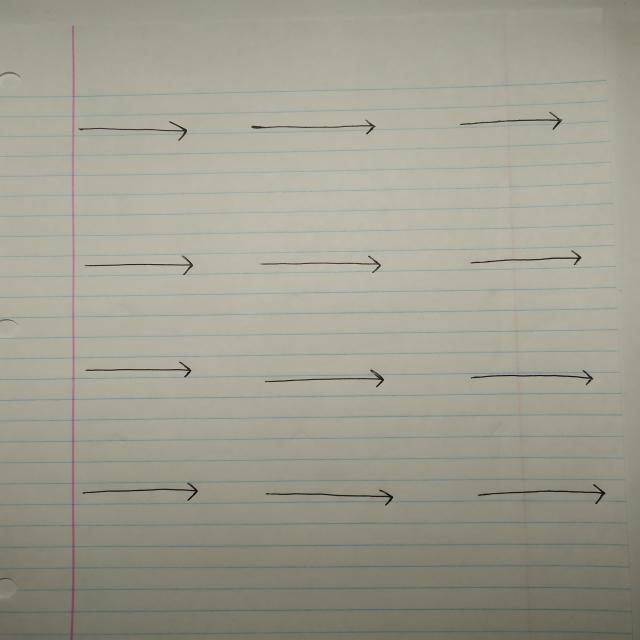arrow_line_right: (255, 358, 392, 398), (70, 250, 210, 286), (466, 478, 612, 512), (247, 480, 406, 510), (238, 114, 395, 144), (244, 248, 386, 280), (454, 245, 585, 279), (70, 112, 200, 146), (453, 104, 575, 140), (456, 364, 602, 394), (77, 479, 208, 506), (71, 358, 204, 383)
